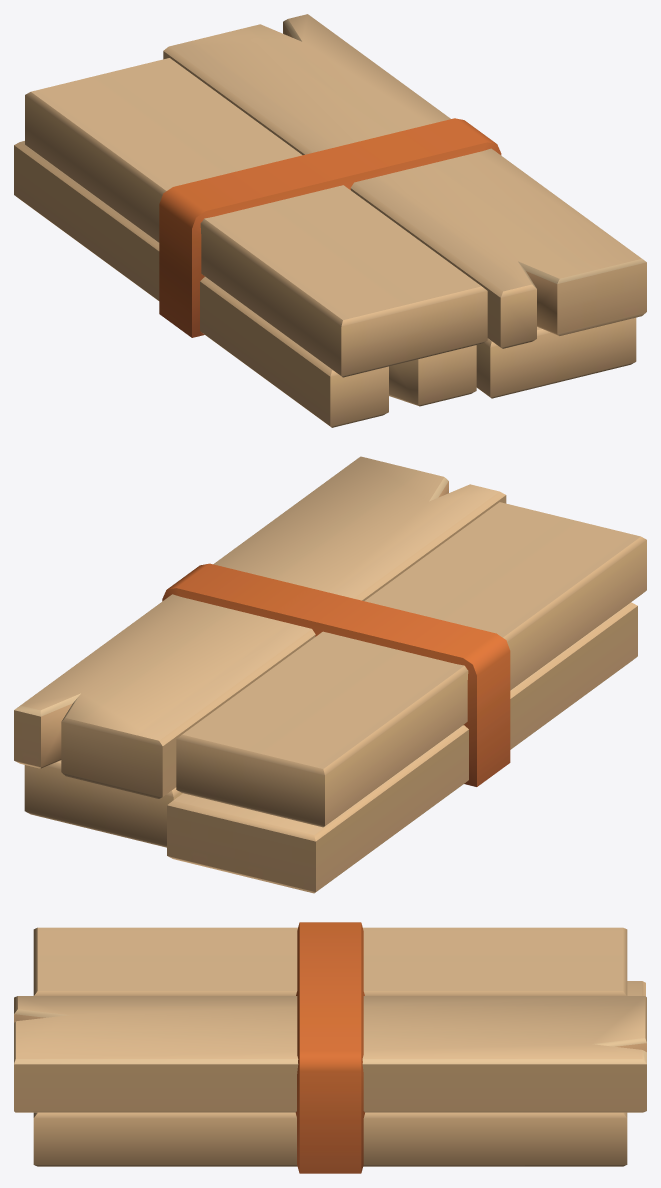
File: wood_planks_stack_small.glb
3 renders of one model, top to bottom at view 1: azimuth 30°, elevation 25°; view 2: azimuth 150°, elevation 25°; view 3: azimuth 270°, elevation 25°, orthographic. The views are drawn at different scales.
Parts seen in each view (by area): view 1: Wood_Planks_Stack_Small; view 2: Wood_Planks_Stack_Small; view 3: Wood_Planks_Stack_Small.
Part boxes in pixels (<box>): Wood_Planks_Stack_Small: <box>14,14,646,427</box>; Wood_Planks_Stack_Small: <box>14,456,646,893</box>; Wood_Planks_Stack_Small: <box>14,922,646,1173</box>.
Bounding box in the file's own units: 0.8462 × 0.3233 × 1.6.
1 material, 1 textured.
